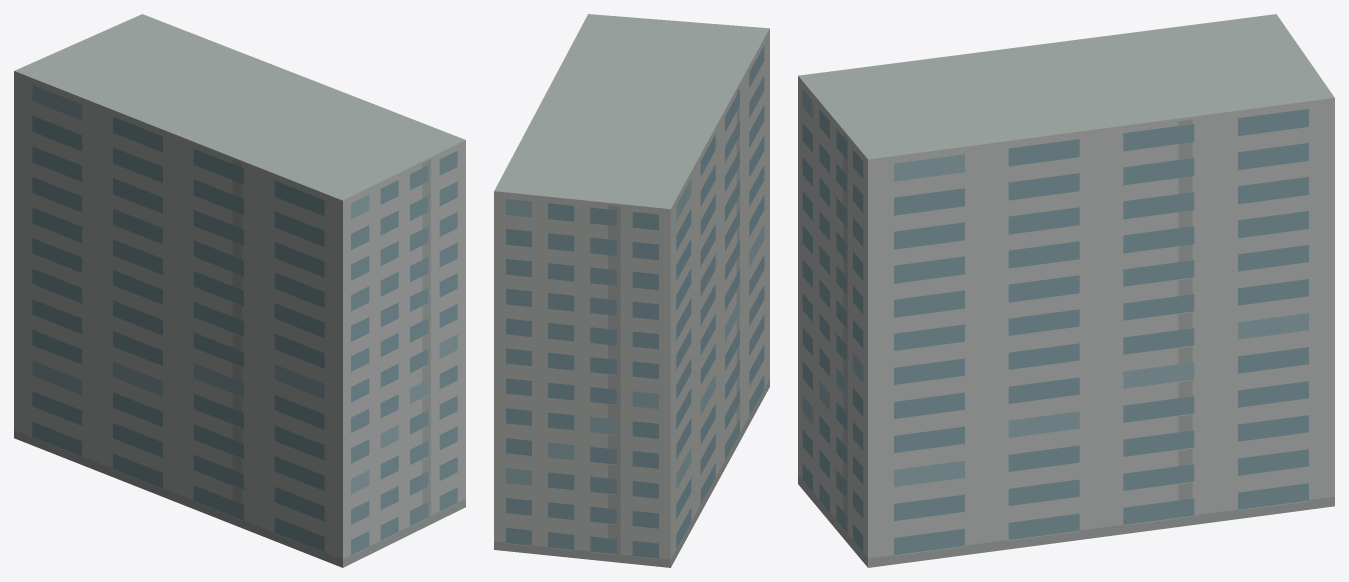
The model's file is residential-fbc8bea3-7caa-4aa8-876d-1e2ecdfae2d8.glb.
The picture shows the model from 3 angles, left to right: view 1: azimuth 30°, elevation 25°; view 2: azimuth 150°, elevation 25°; view 3: azimuth 270°, elevation 25°; orthographic projection. The views are drawn at different scales.
Visible parts, largest first — view 1: residential-fbc8bea3-7caa-4aa8-876d-1e2ecdfae2d8.tmp; view 2: residential-fbc8bea3-7caa-4aa8-876d-1e2ecdfae2d8.tmp; view 3: residential-fbc8bea3-7caa-4aa8-876d-1e2ecdfae2d8.tmp.
Boxes of the visible parts, x1=… form: residential-fbc8bea3-7caa-4aa8-876d-1e2ecdfae2d8.tmp: x1=14, y1=14, x2=465, y2=567; residential-fbc8bea3-7caa-4aa8-876d-1e2ecdfae2d8.tmp: x1=494, y1=14, x2=769, y2=567; residential-fbc8bea3-7caa-4aa8-876d-1e2ecdfae2d8.tmp: x1=798, y1=14, x2=1334, y2=567.
Bounding box in the file's own units: 27.97 × 36.6 × 43.6.
